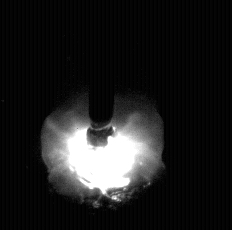arame: (89, 0, 114, 146)
poca: (41, 0, 164, 230)
